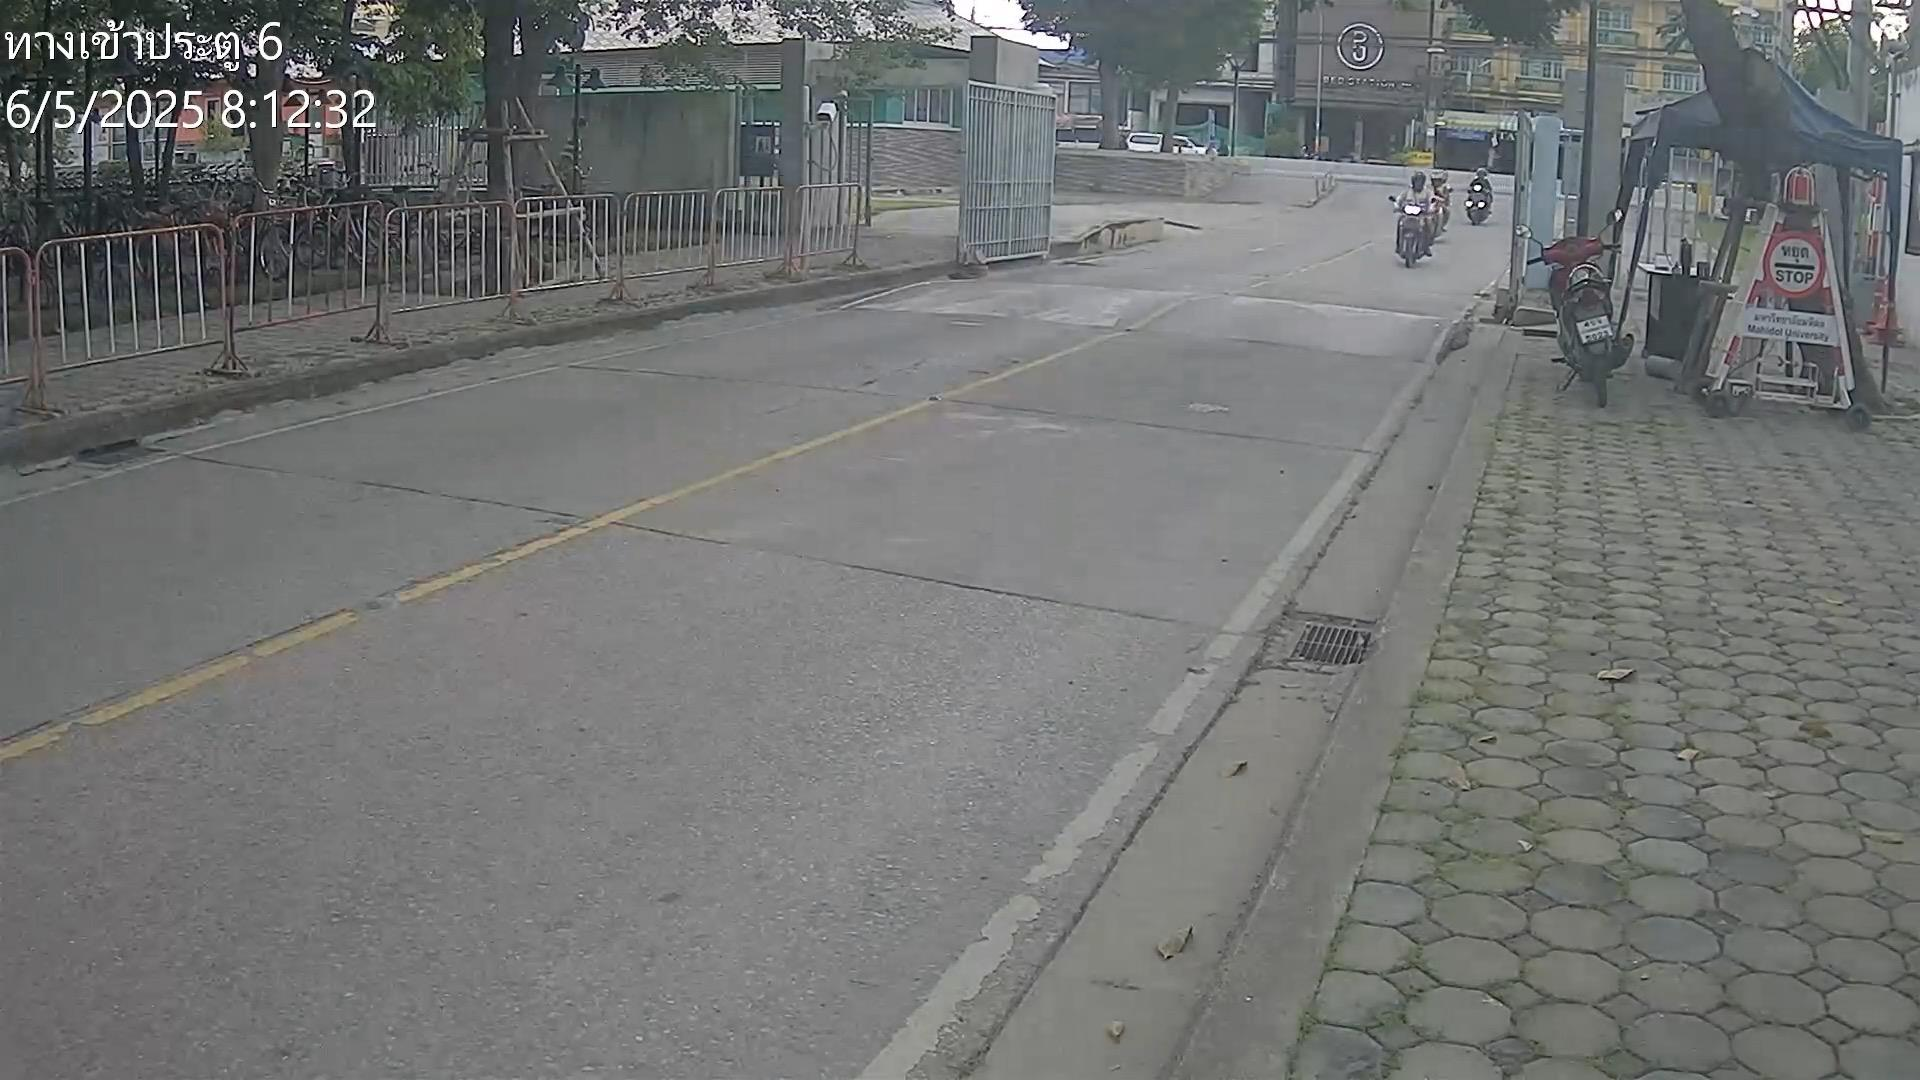With-Helmet: (1411, 169, 1425, 191)
